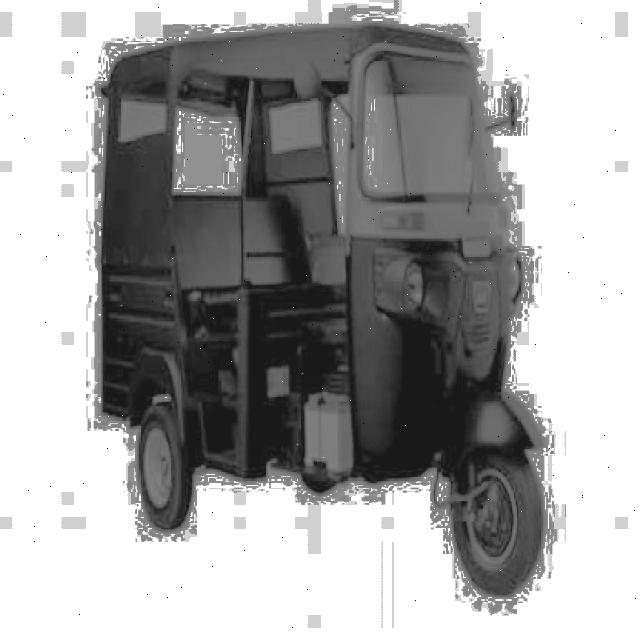Auto-Rickshaw: (91, 37, 546, 615)
